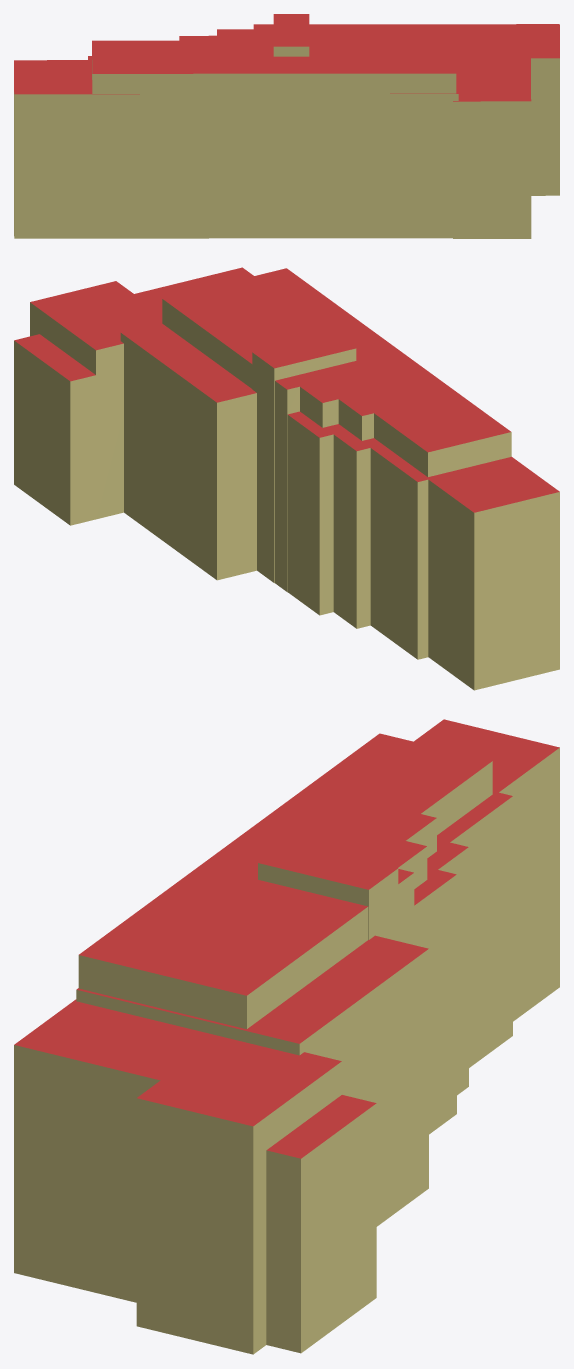
3 renders of one model, top to bottom at view 1: azimuth 30°, elevation 25°; view 2: azimuth 150°, elevation 25°; view 3: azimuth 270°, elevation 25°, orthographic. The views are drawn at different scales.
Parts seen in each view (by area): view 1: group_13, group_9, group_4, group_10, group_3, group_12, group_15, group_16; view 2: group_13, group_9, group_7, group_10, group_12, group_4, group_3, group_16, group_15, group_6; view 3: group_4, group_13, group_9, group_7, group_3, group_10, group_12, group_16, group_15, group_6.
Part boxes in pixels (x1=…): group_13: x1=14, y1=92, x2=458, y2=238; group_9: x1=92, y1=24, x2=456, y2=73; group_4: x1=453, y1=58, x2=559, y2=238; group_10: x1=92, y1=60, x2=456, y2=93; group_3: x1=453, y1=24, x2=559, y2=101; group_12: x1=14, y1=28, x2=458, y2=94; group_15: x1=273, y1=14, x2=309, y2=46; group_16: x1=273, y1=46, x2=309, y2=56; group_13: x1=120, y1=333, x2=559, y2=690; group_9: x1=162, y1=268, x2=510, y2=452; group_7: x1=14, y1=340, x2=95, y2=525; group_10: x1=162, y1=299, x2=511, y2=592; group_12: x1=121, y1=322, x2=559, y2=512; group_4: x1=30, y1=302, x2=123, y2=519; group_3: x1=30, y1=267, x2=253, y2=350; group_16: x1=252, y1=348, x2=356, y2=583; group_15: x1=253, y1=332, x2=355, y2=368; group_6: x1=14, y1=334, x2=95, y2=381; group_4: x1=14, y1=1045, x2=341, y2=1354; group_13: x1=76, y1=748, x2=559, y2=1226; group_9: x1=79, y1=733, x2=492, y2=995; group_7: x1=266, y1=1103, x2=376, y2=1353; group_3: x1=14, y1=999, x2=341, y2=1126; group_10: x1=78, y1=761, x2=492, y2=1029; group_12: x1=76, y1=719, x2=559, y2=1043; group_16: x1=258, y1=863, x2=398, y2=940; group_15: x1=258, y1=841, x2=397, y2=889; group_6: x1=267, y1=1095, x2=376, y2=1158.
Size of the model in its own units: 66.94 by 39.05 by 22.88.
